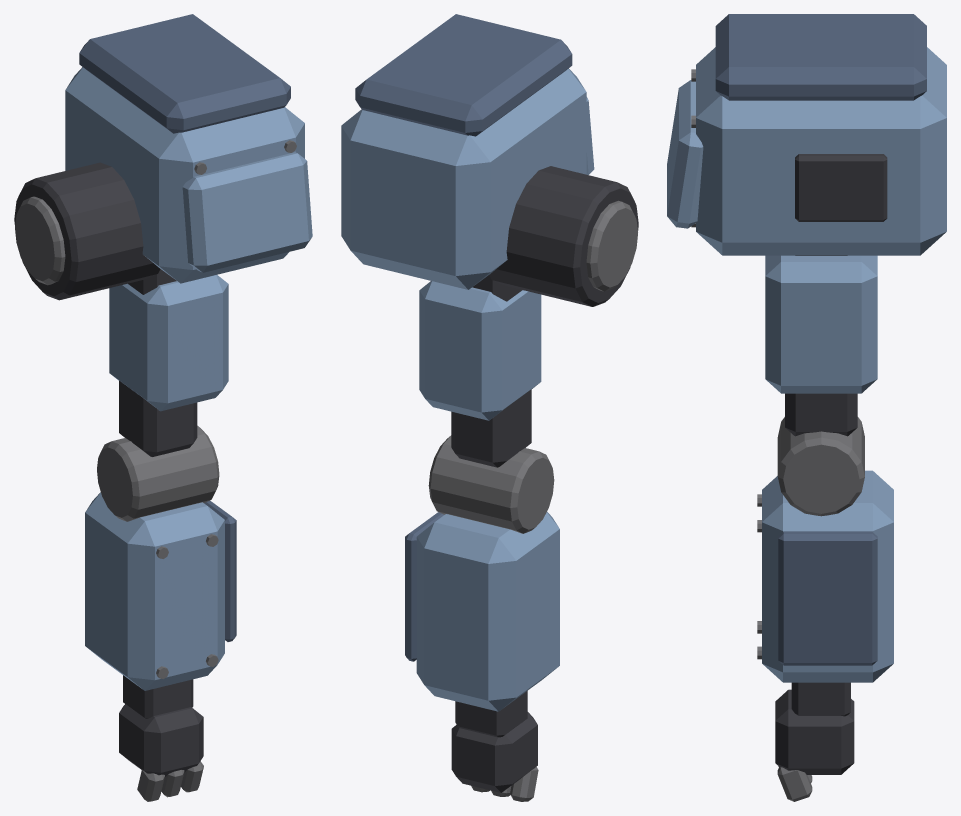
Rendered from recon_arm_l.glb.
The picture shows the model from 3 angles, left to right: view 1: azimuth 30°, elevation 25°; view 2: azimuth 150°, elevation 25°; view 3: azimuth 270°, elevation 25°; orthographic projection. The views are drawn at different scales.
Parts seen in each view (by area): view 1: ForearmL, PauldronL, PauldronTopL, UpperArmL, PauldronFrontL, ShoulderJointL, ElbowJointL, HandL, UpperArmFrameL, ShoulderCapL, WristL, ForearmPlateL (+1 smaller); view 2: PauldronL, ForearmL, PauldronTopL, UpperArmL, ShoulderJointL, ElbowJointL, HandL, UpperArmFrameL, ShoulderCapL, WristL, ForearmPlateL, FingerL2; view 3: PauldronL, PauldronTopL, UpperArmL, ForearmPlateL, ForearmL, ElbowJointL, PauldronVentL, HandL, PauldronFrontL, UpperArmFrameL, WristL, FingerL0.
Part boxes in pixels (<box>): ForearmL: <box>85,492,224,690</box>; PauldronL: <box>65,67,304,283</box>; PauldronTopL: <box>79,14,290,133</box>; UpperArmL: <box>109,275,228,411</box>; PauldronFrontL: <box>182,152,312,272</box>; ShoulderJointL: <box>14,162,160,300</box>; ElbowJointL: <box>97,425,219,521</box>; HandL: <box>119,704,203,776</box>; UpperArmFrameL: <box>119,269,197,456</box>; ShoulderCapL: <box>15,196,65,285</box>; WristL: <box>123,675,193,718</box>; ForearmPlateL: <box>204,500,236,641</box>; PauldronL: <box>341,68,586,289</box>; ForearmL: <box>416,512,559,711</box>; PauldronTopL: <box>355,14,572,136</box>; UpperArmL: <box>419,281,541,420</box>; ShoulderJointL: <box>489,166,638,306</box>; ElbowJointL: <box>428,435,554,533</box>; HandL: <box>451,712,537,792</box>; UpperArmFrameL: <box>451,275,531,467</box>; ShoulderCapL: <box>586,200,637,291</box>; WristL: <box>455,691,527,737</box>; ForearmPlateL: <box>405,512,444,661</box>; FingerL2: <box>510,767,538,801</box>; PauldronL: <box>696,47,946,255</box>; PauldronTopL: <box>715,14,926,100</box>; UpperArmL: <box>765,255,877,393</box>; ForearmPlateL: <box>778,531,877,665</box>; ForearmL: <box>762,470,893,682</box>; ElbowJointL: <box>777,417,864,516</box>; PauldronVentL: <box>795,154,887,221</box>; HandL: <box>775,689,854,774</box>; PauldronFrontL: <box>667,80,703,228</box>; UpperArmFrameL: <box>785,255,857,436</box>; WristL: <box>791,682,850,716</box>; FingerL0: <box>777,767,812,801</box>.
Size of the model in its own units: 2.15 by 6.38 by 2.12.
